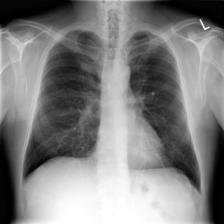normal: (19, 26, 204, 197)
